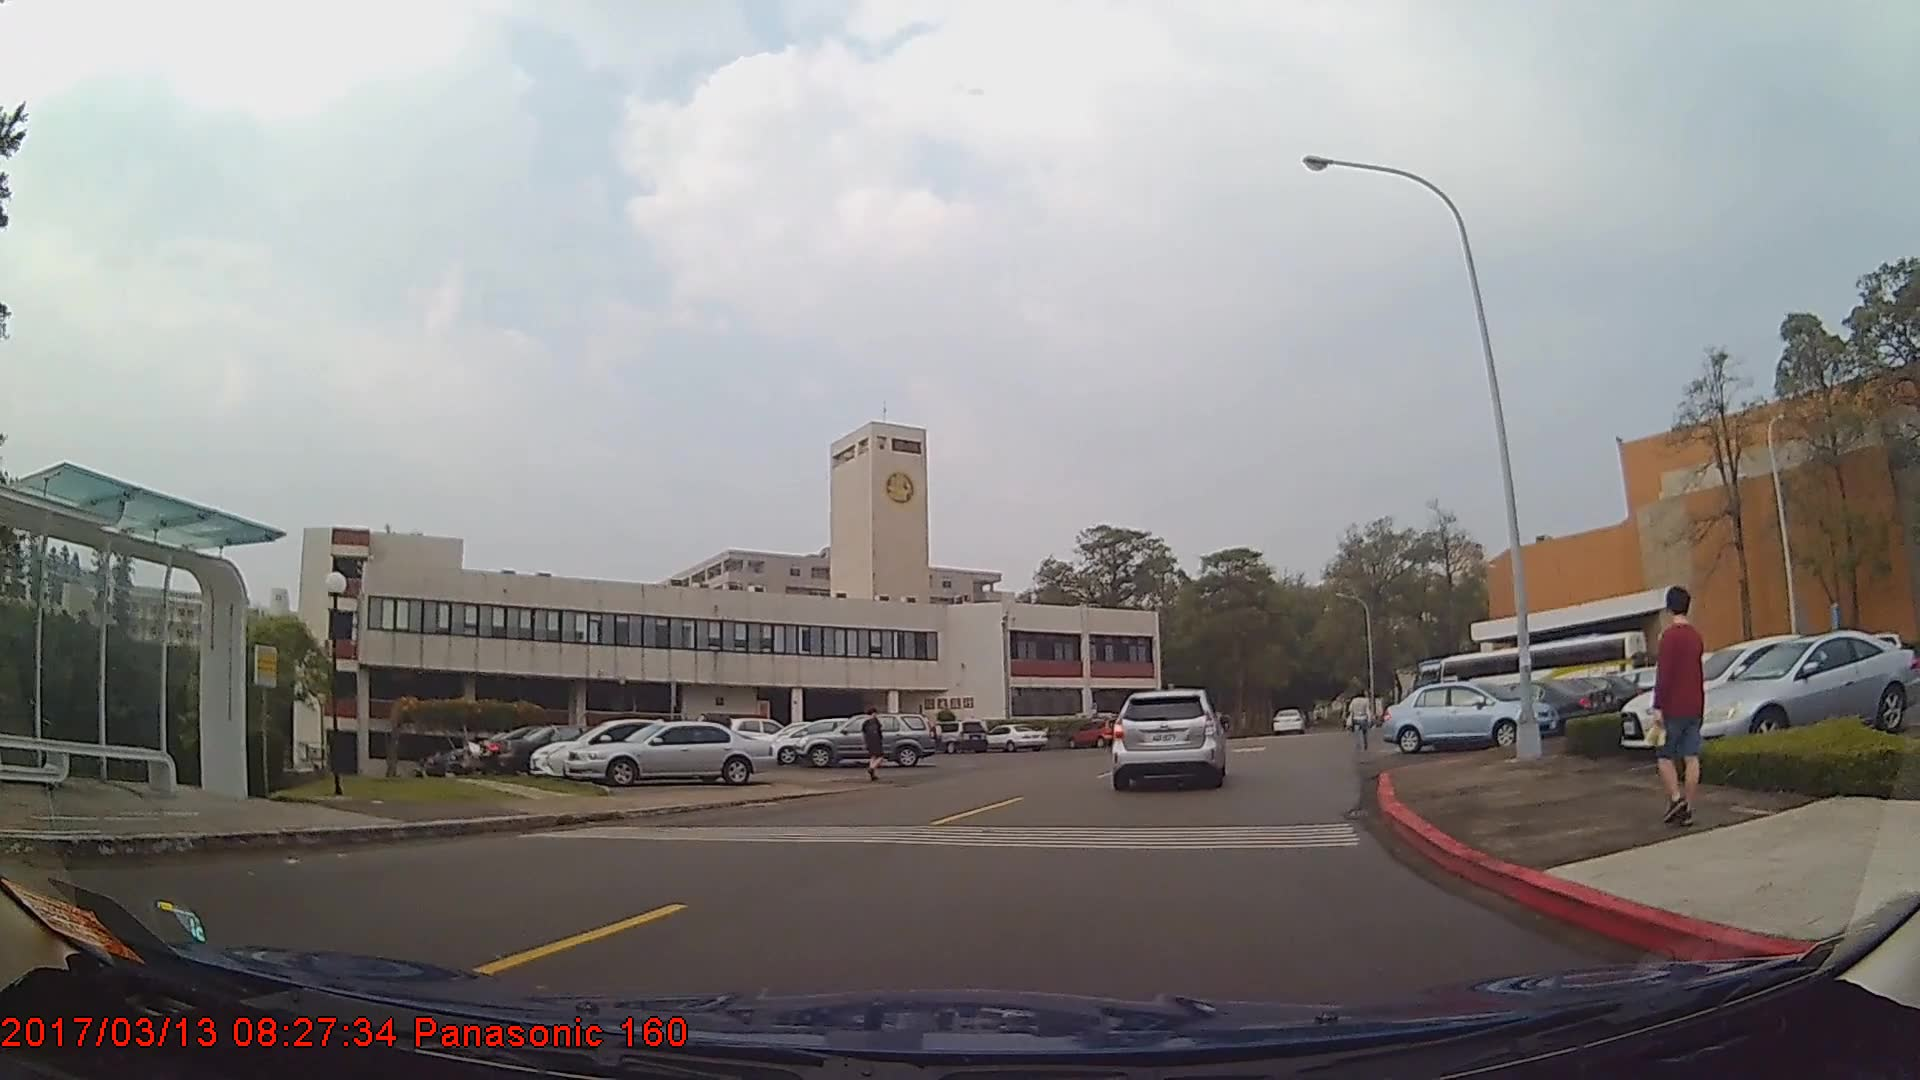pedestrian: (1658, 582, 1714, 817), (1347, 688, 1379, 751), (864, 705, 888, 779)
vehicle: (1618, 630, 1872, 746), (1684, 627, 1916, 747), (563, 718, 776, 787), (524, 713, 734, 776), (1379, 677, 1555, 748), (1113, 689, 1223, 790), (1438, 674, 1611, 733), (794, 710, 942, 767), (492, 720, 644, 775), (923, 718, 988, 753), (980, 722, 1048, 753), (1068, 715, 1129, 746), (1273, 702, 1303, 729)
